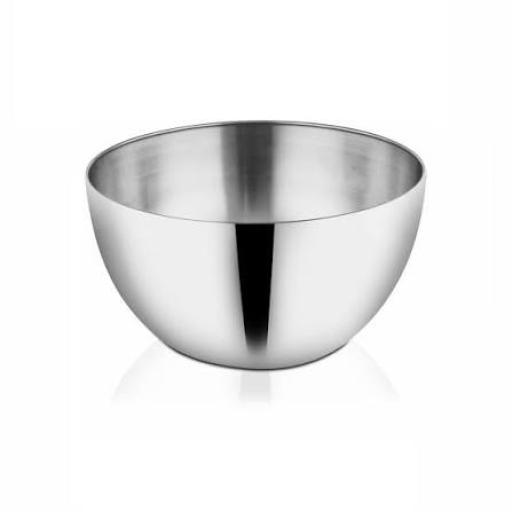Bowl: (86, 121, 425, 369)
